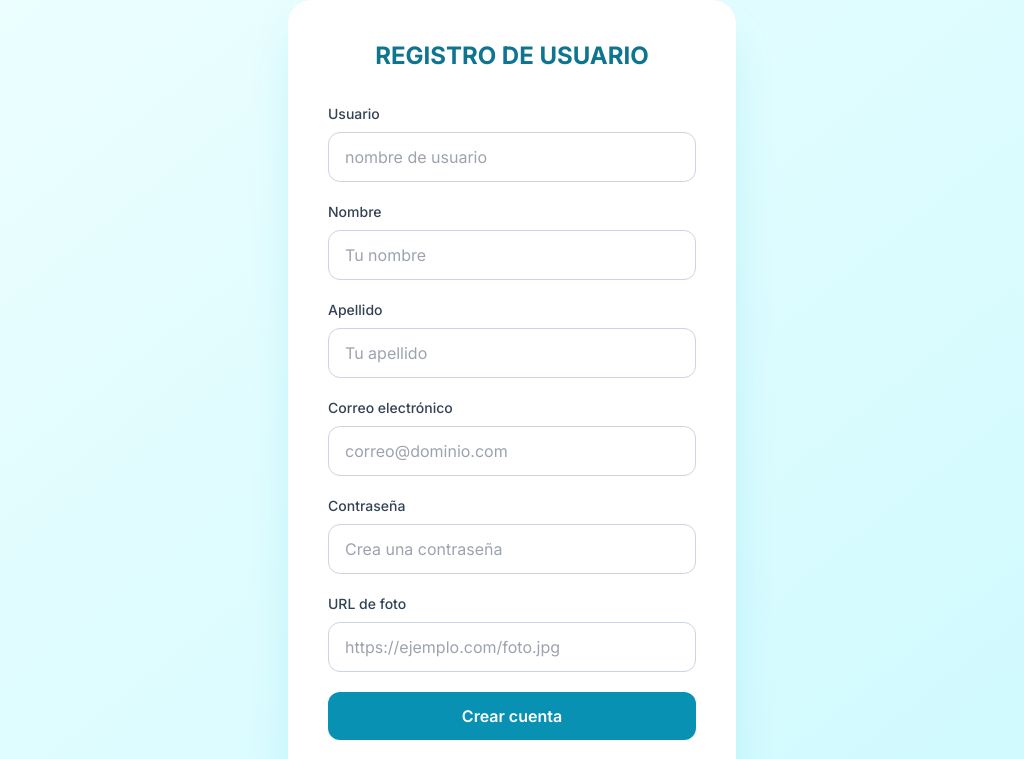
it: Register Page › debe mostrar un mensaje de error si el registro falla
In the field with placeholder "nombre de usuario": (512, 157) left=328, top=132, right=696, bottom=182, type "jdoe"
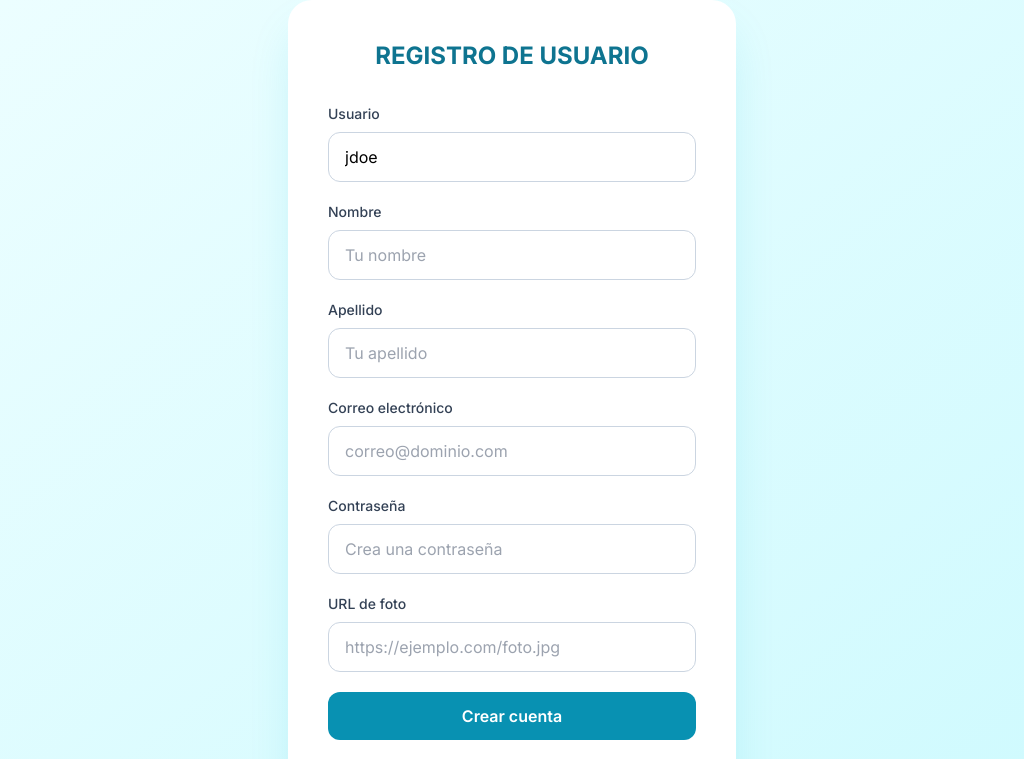
In the field with placeholder "Tu nombre": (512, 255) left=328, top=230, right=696, bottom=280, type "John"
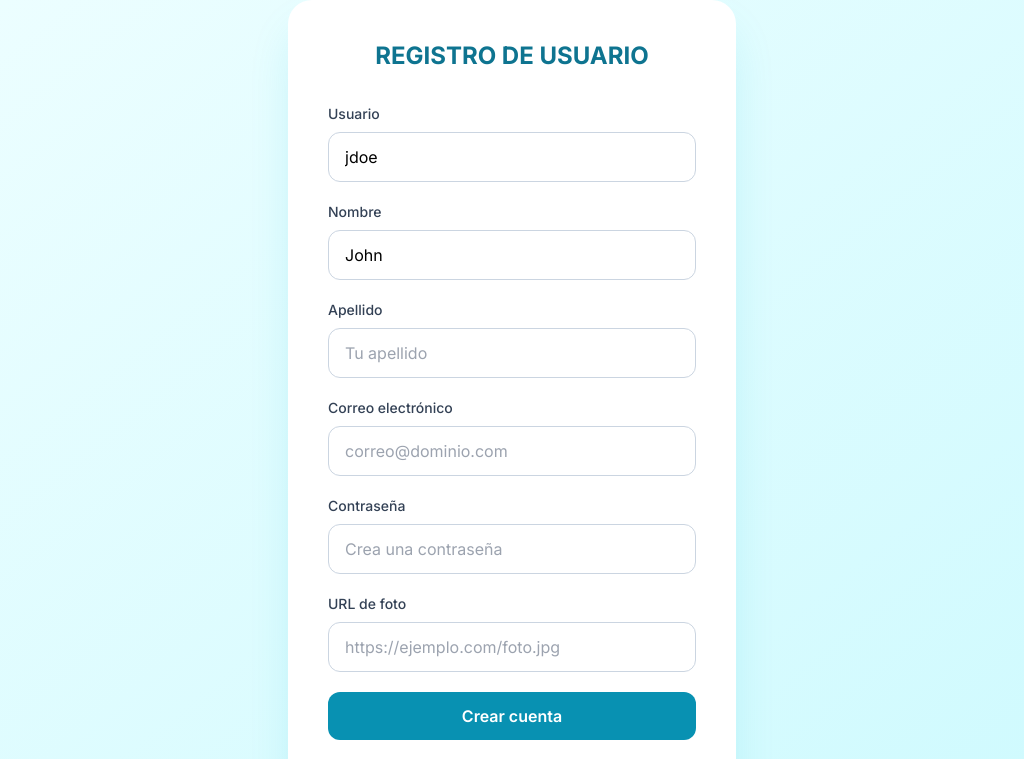
In the field with placeholder "Tu apellido": (512, 353) left=328, top=328, right=696, bottom=378, type "Doe"
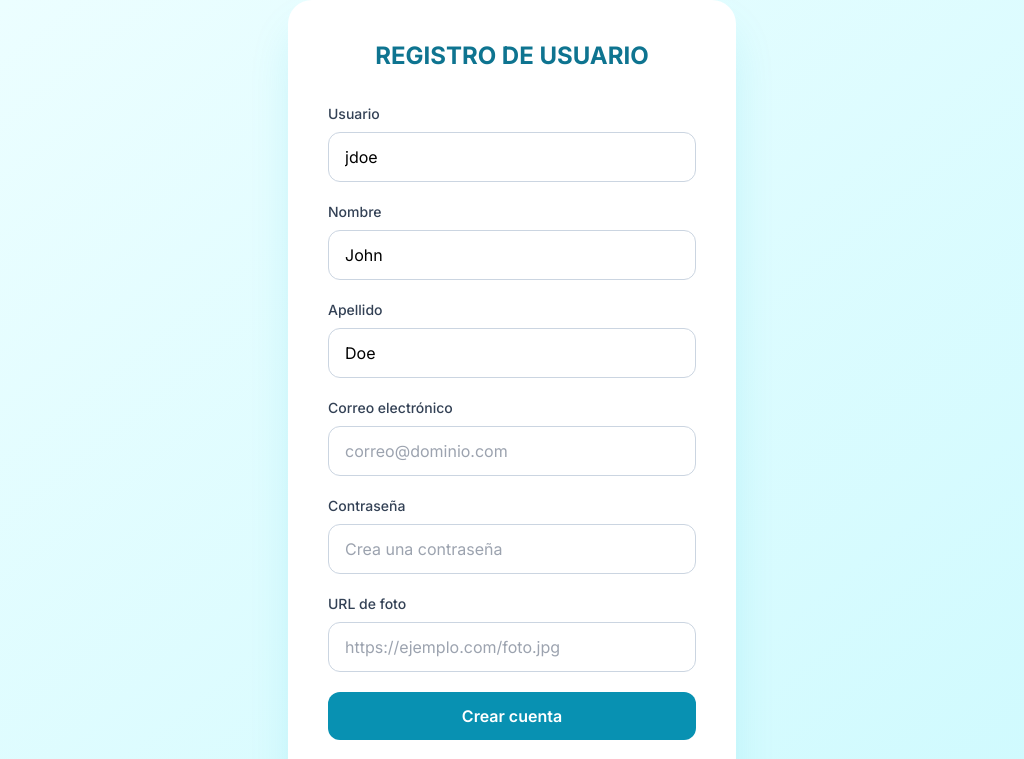
In the field with placeholder "correo@dominio.com": (512, 451) left=328, top=426, right=696, bottom=476, type "john@test.com"
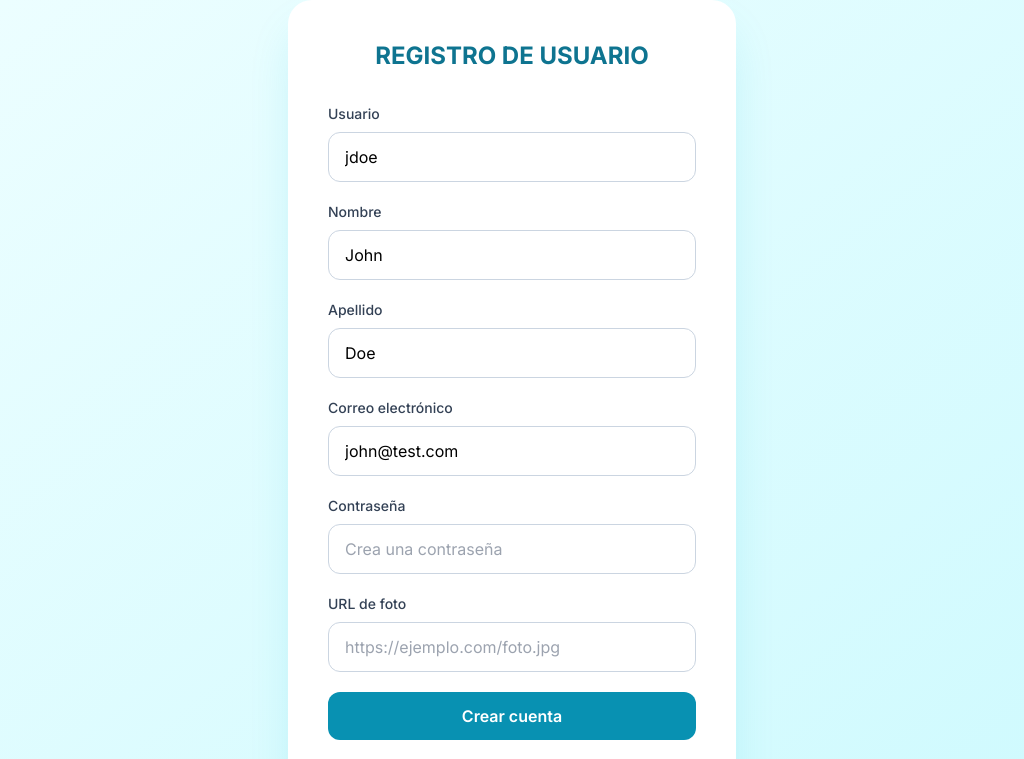
In the password field with placeholder "Crea una contraseña": (512, 549) left=328, top=524, right=696, bottom=574, type "password123"
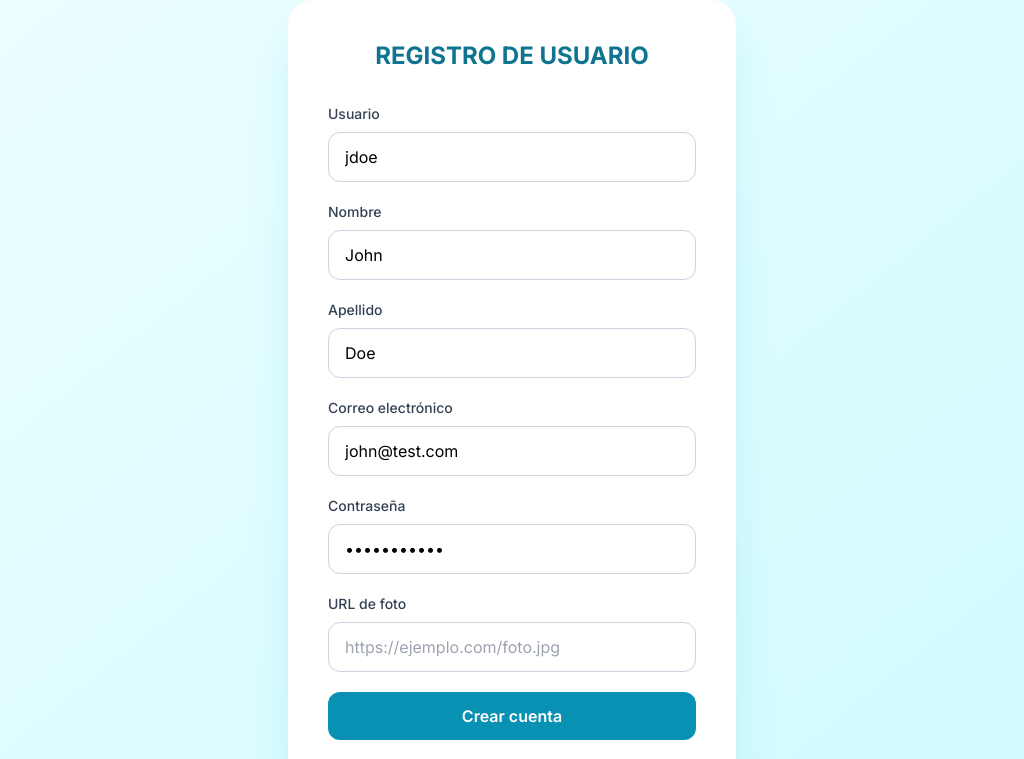
Click the button "Crear cuenta": (512, 716) left=328, top=692, right=696, bottom=740
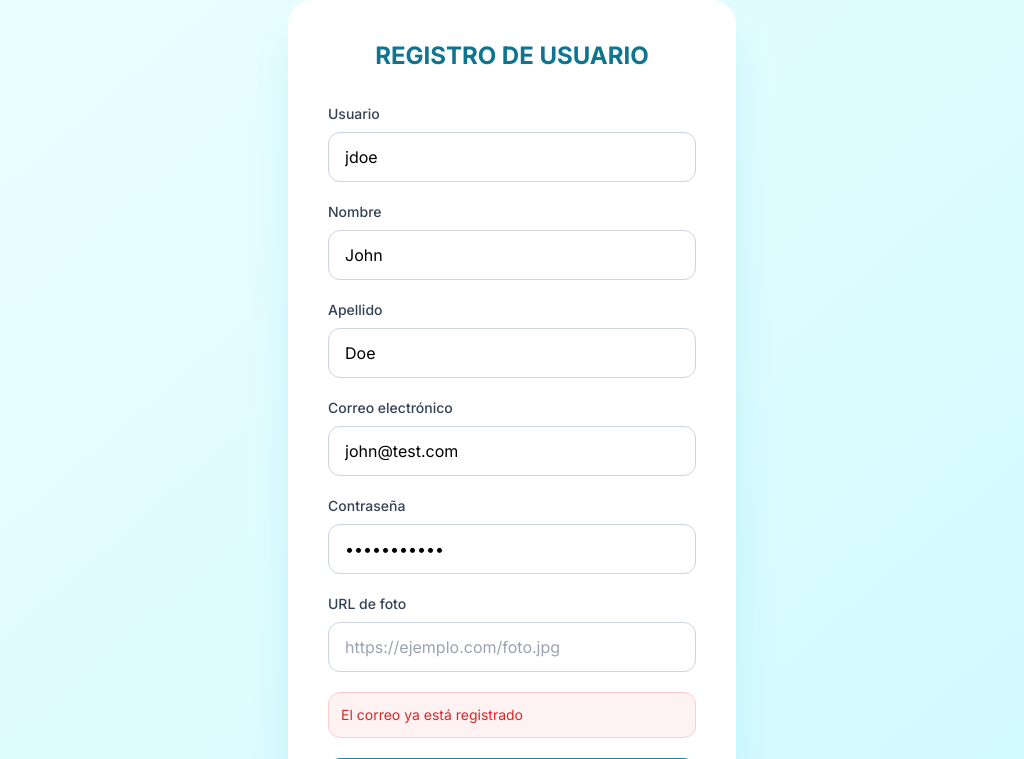
Result: the text "El correo ya está registrado" is shown at left=328, top=692, right=696, bottom=738
